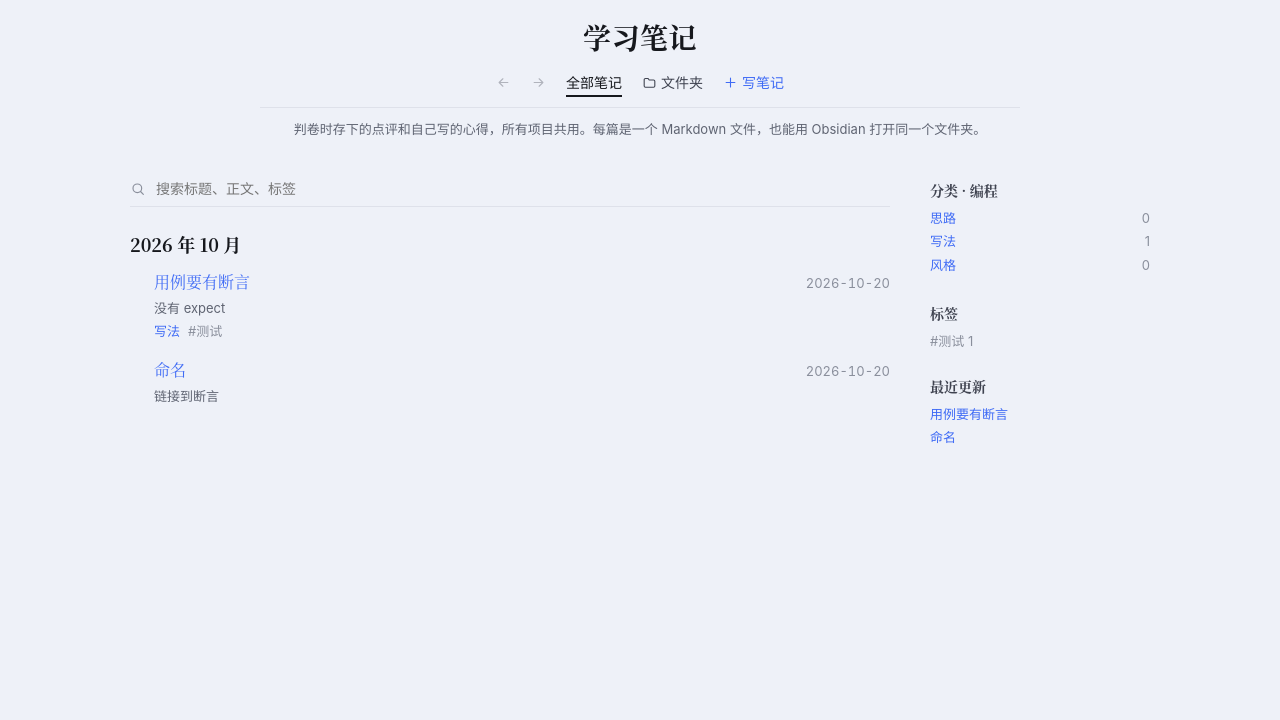
Test: NotesView › a [ [link]] goes to that note’s page, and back returns
The width and height of the screenshot is (1280, 720).
Click the link with class "post-title" below "2026 年 10 月".
click(202, 281)  # box top-left (154, 270), bottom-right (250, 292)
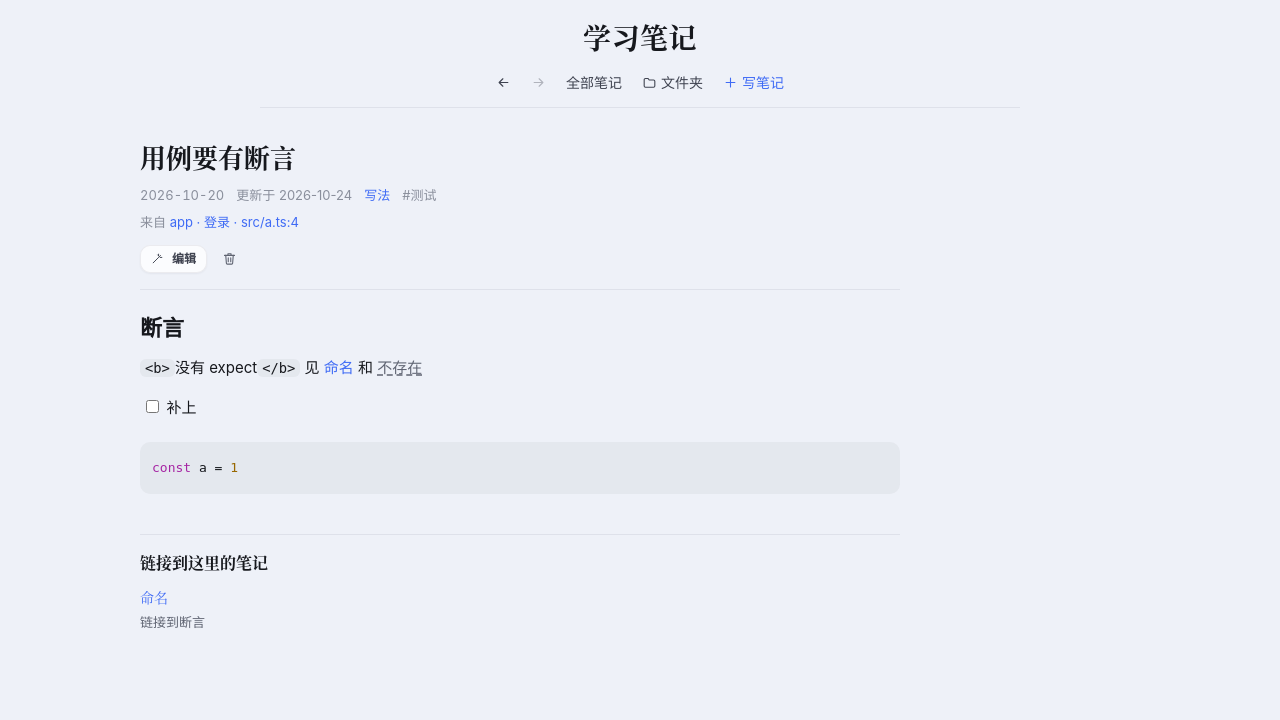
Click the link with class "wiki-link" in the row of "不存在".
click(339, 368)  # box top-left (324, 358), bottom-right (354, 378)
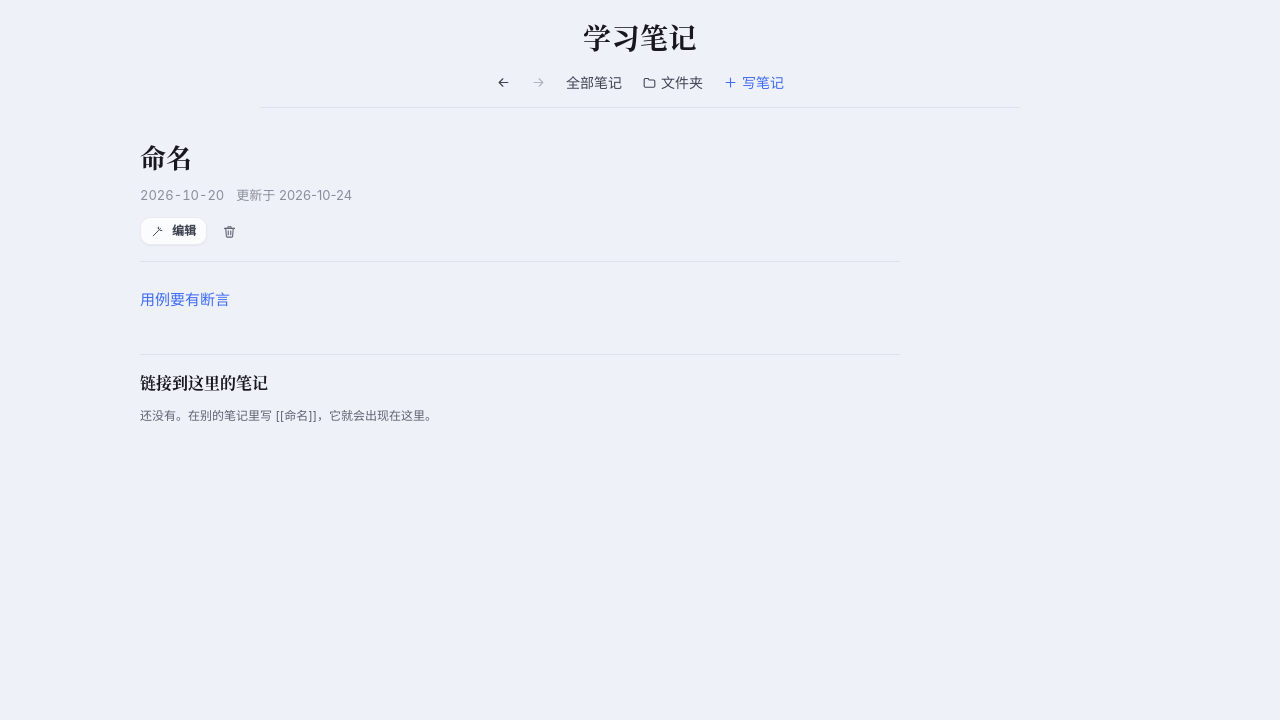
Check: the heading "命名" is shown, box top-left (140, 138), bottom-right (192, 175)
Click the button named "后退".
click(504, 82)  # box top-left (496, 73), bottom-right (511, 92)
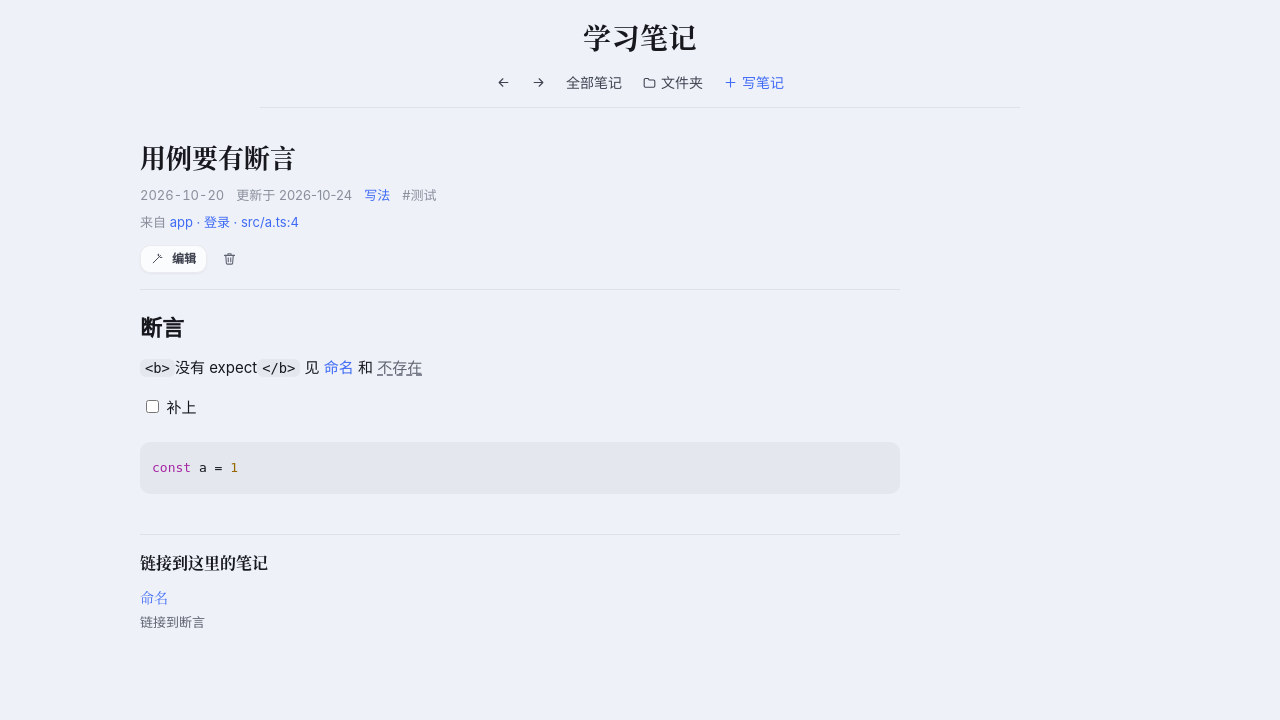
Check: the heading "用例要有断言" is shown, box top-left (140, 138), bottom-right (296, 175)
Click the button named "后退".
click(504, 82)  # box top-left (496, 73), bottom-right (511, 92)
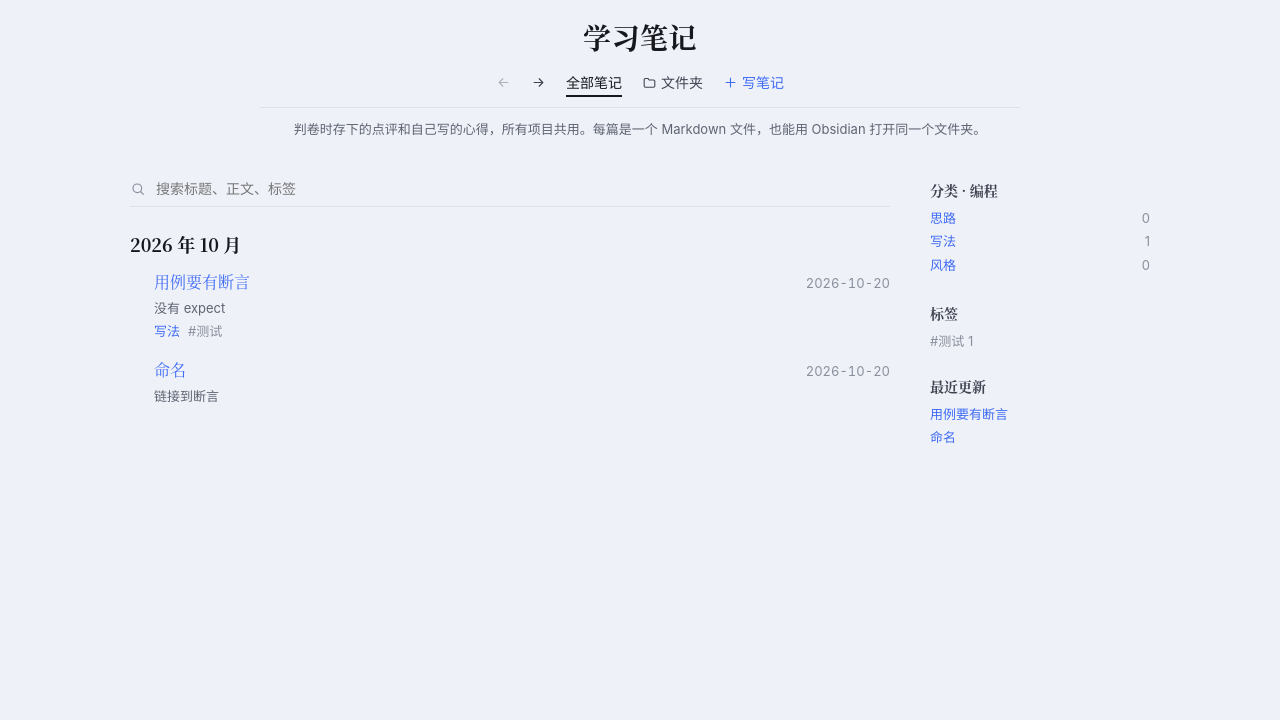
Check: the element with class "blog-index" is shown, box top-left (80, 172), bottom-right (1200, 452)
